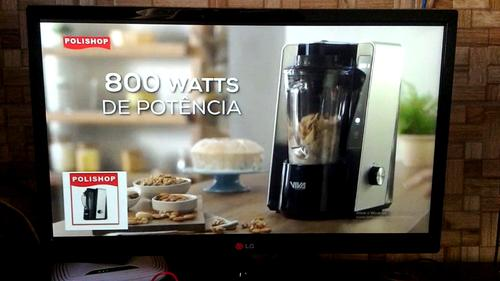Polishop #1: (62, 171, 128, 229)
